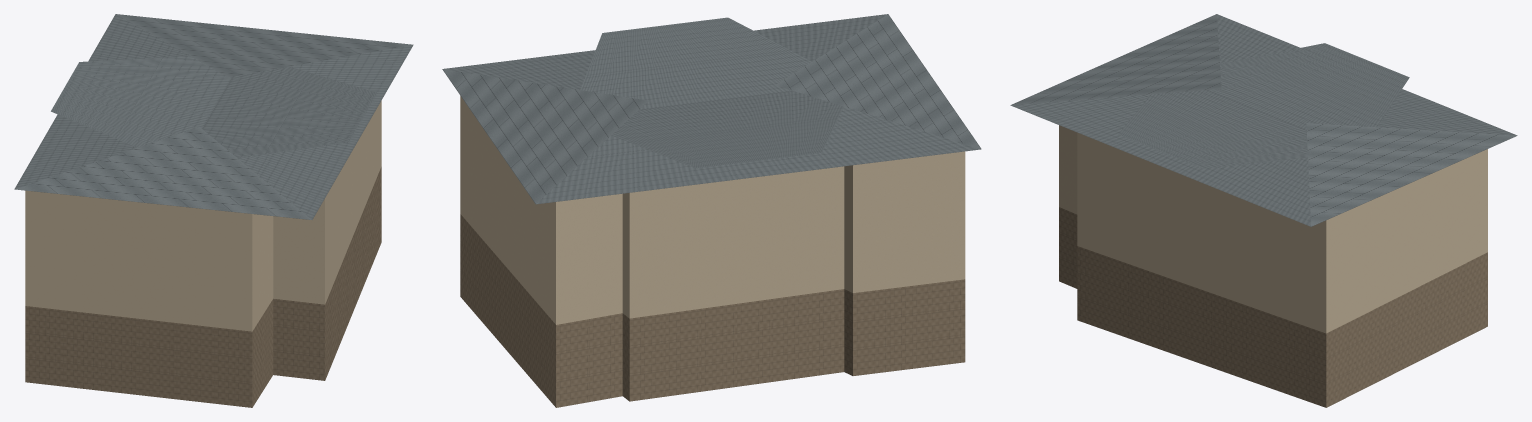
The model's file is bld_c3_-8_598.gltf.
The picture shows the model from 3 angles, left to right: view 1: azimuth 30°, elevation 25°; view 2: azimuth 150°, elevation 25°; view 3: azimuth 270°, elevation 25°; orthographic projection. The views are drawn at different scales.
Visible parts, largest first — view 1: bld_c3_-8_598; view 2: bld_c3_-8_598; view 3: bld_c3_-8_598.
Boxes of the visible parts, x1,y1,x2,y2 form: bld_c3_-8_598: [14, 14, 413, 407]; bld_c3_-8_598: [442, 14, 981, 407]; bld_c3_-8_598: [1010, 14, 1517, 407].
Bounding box in the file's own units: 31.31 × 14.2 × 31.55.
Materials: 3 (3 with a texture image).
